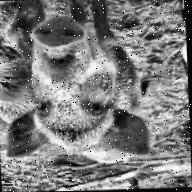boar: (0, 11, 145, 177)
